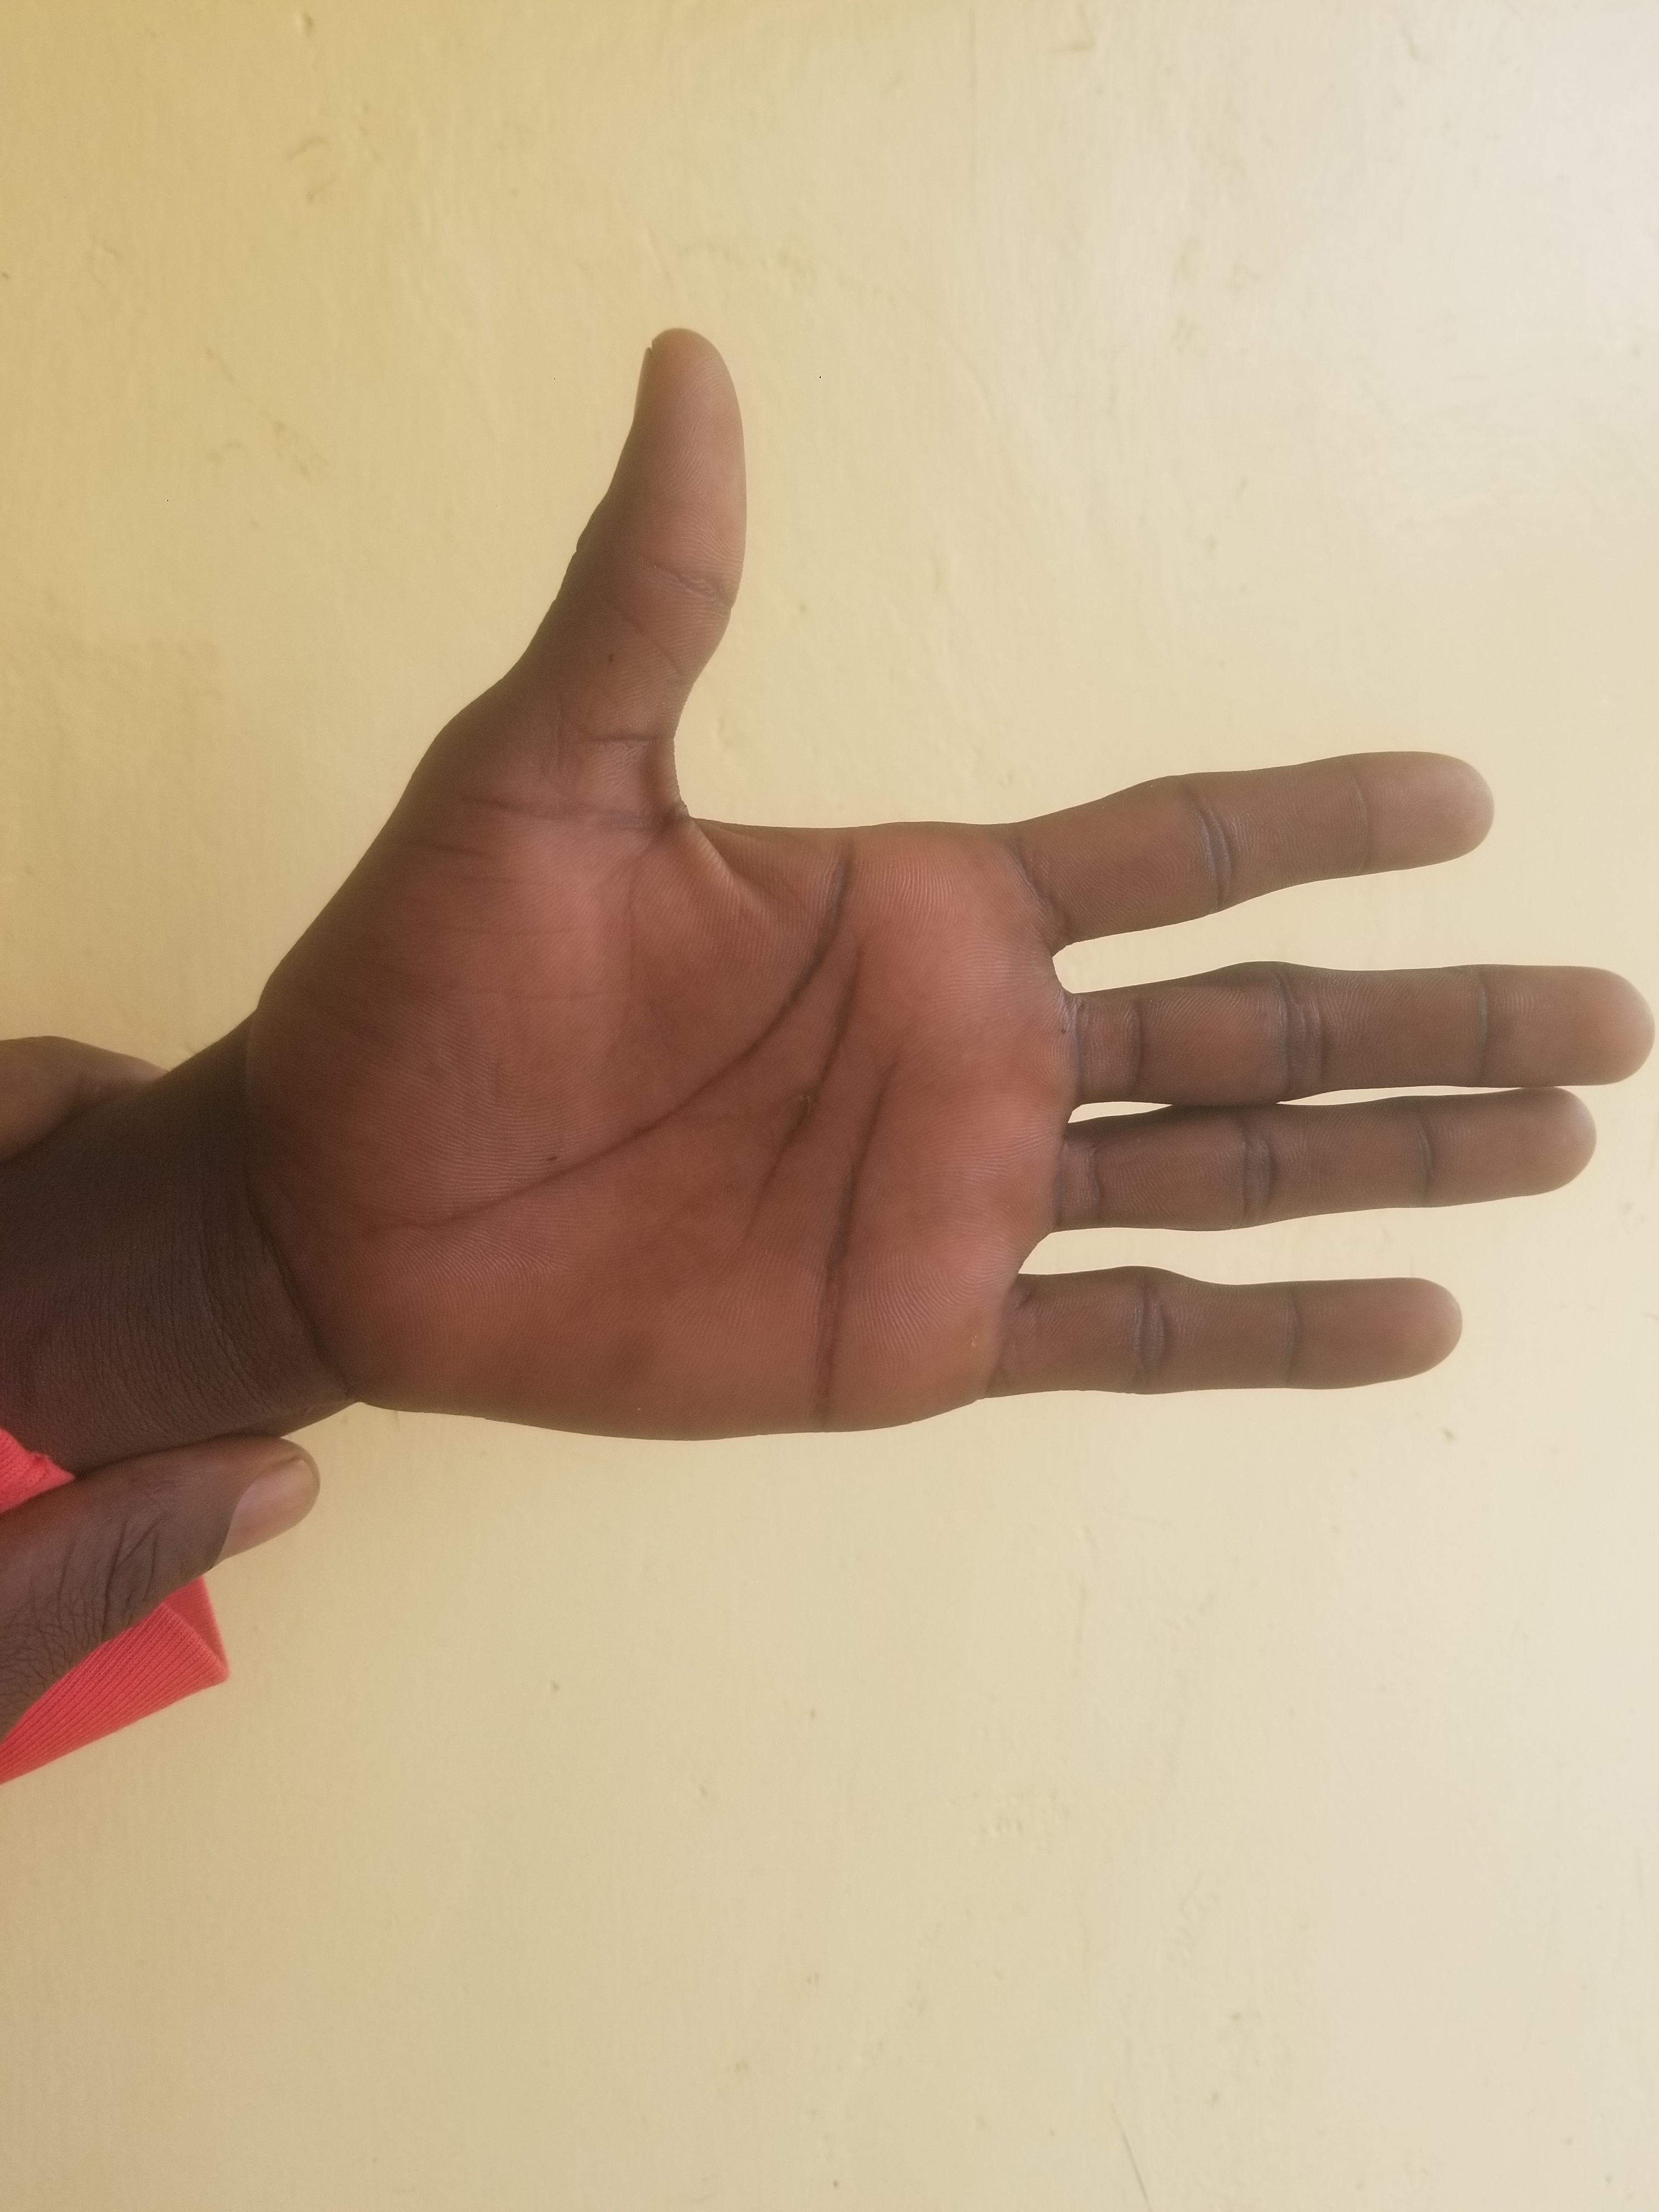open palm: (301, 361, 1659, 1620)
